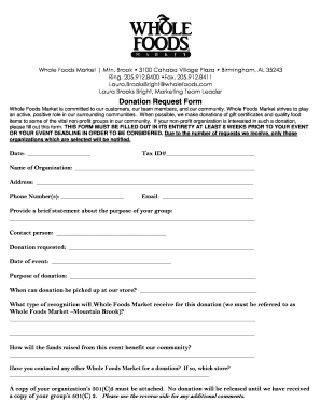textline: (8, 327, 256, 339), (8, 314, 259, 325), (6, 349, 256, 360), (33, 176, 256, 188), (9, 213, 258, 223), (68, 268, 259, 281), (73, 162, 258, 174), (67, 241, 256, 252), (48, 254, 174, 266), (138, 283, 259, 295), (8, 372, 211, 379), (161, 189, 256, 202), (165, 145, 258, 158), (55, 228, 170, 238), (26, 145, 93, 158), (60, 190, 126, 202)
